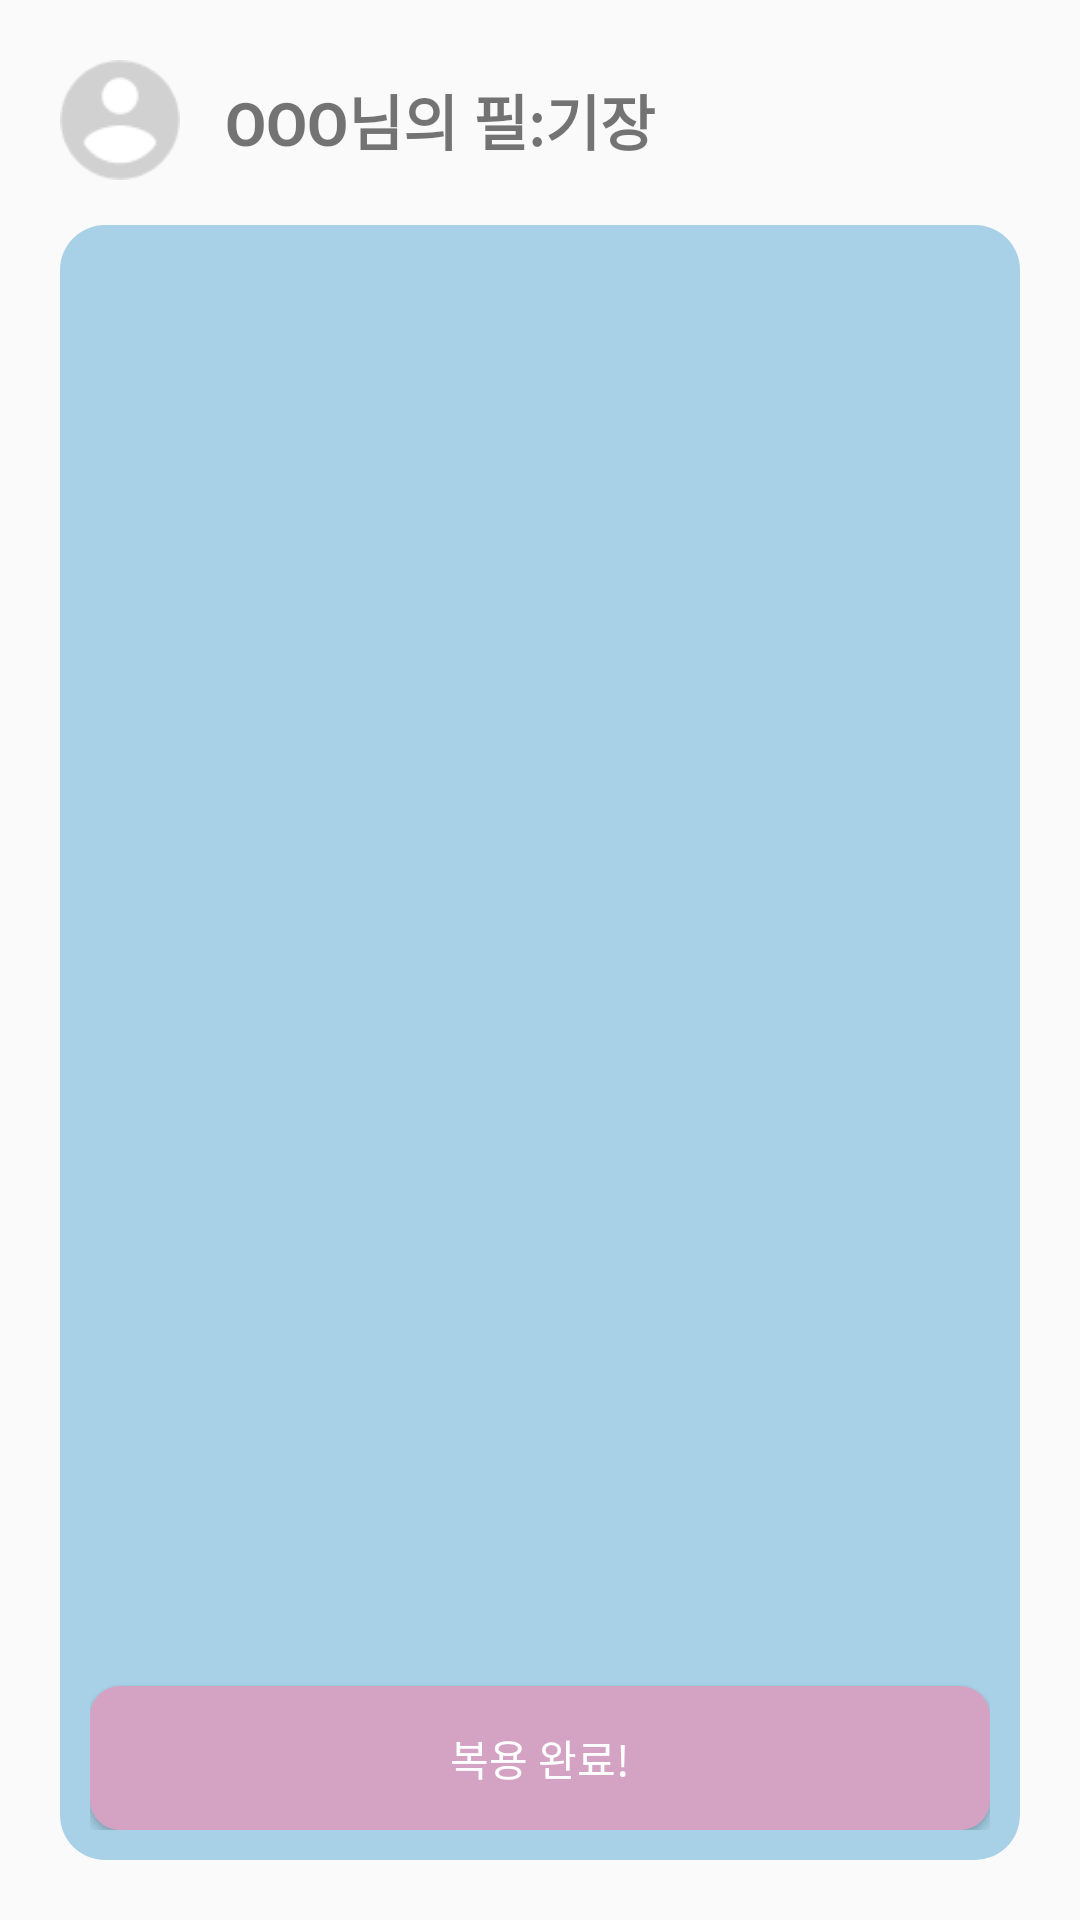

Named icons in this screenshot (1080 × 1920) and their bounding boxes, (x1=x1, y1=y1, x2=x2, y2=y2):
profile: (x1=60, y1=60, x2=180, y2=180)
